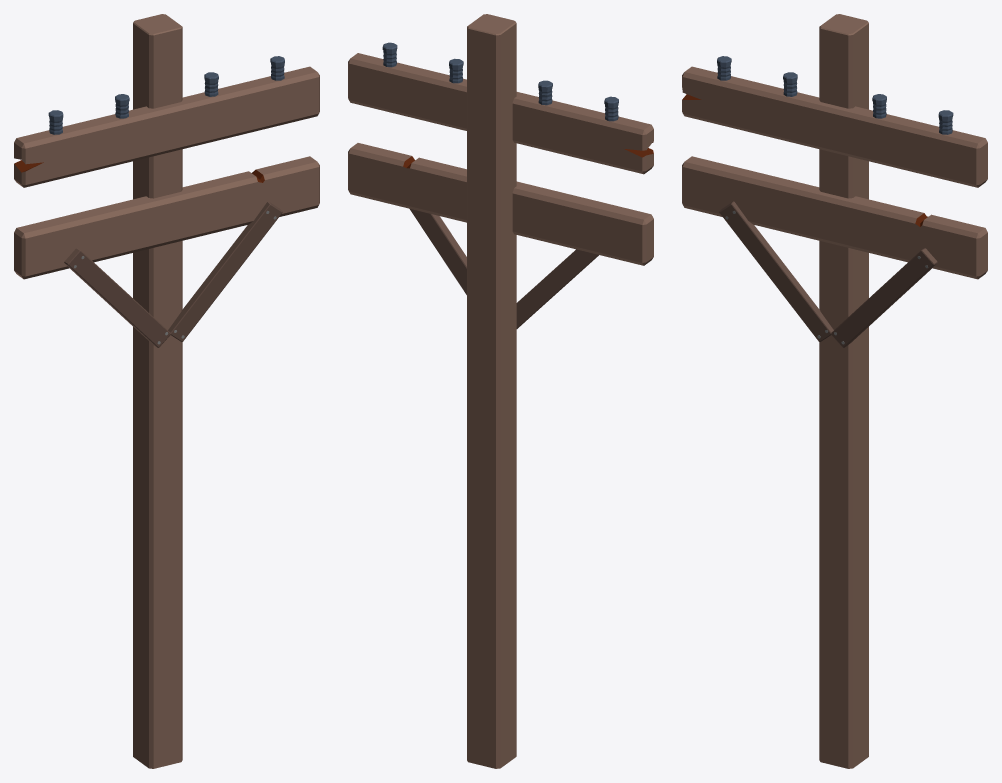
The model's file is SM_Powerline3.glb.
3 views of the same model, side by side, from view 1: azimuth 30°, elevation 25°; view 2: azimuth 150°, elevation 25°; view 3: azimuth 330°, elevation 25° (orthographic).
Parts seen in each view (by area): view 1: M.Powerline3; view 2: M.Powerline3; view 3: M.Powerline3.
Part boxes in pixels (<box>): M.Powerline3: <box>14,14,319,768</box>; M.Powerline3: <box>348,14,653,768</box>; M.Powerline3: <box>682,14,987,768</box>.
Bounding box in the file's own units: 6.55 × 15.4 × 1.05.
Materials: 1 (1 with a texture image).
